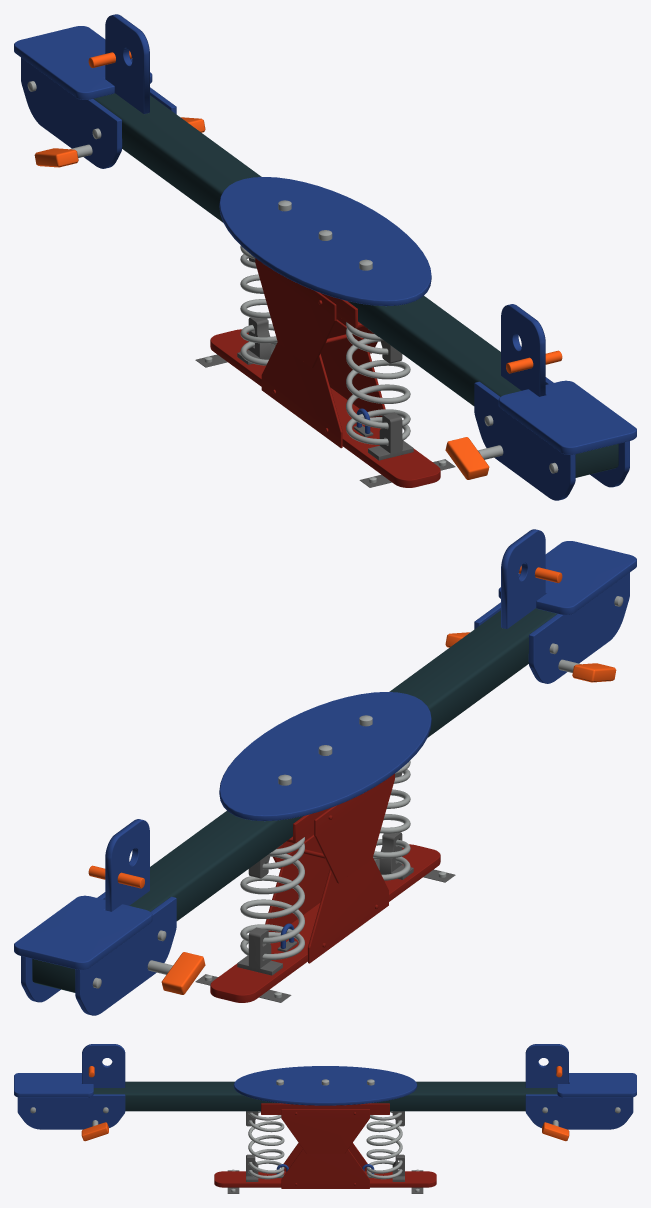
File: Seesaw.fbx
The picture shows the model from 3 angles, top to bottom: view 1: azimuth 30°, elevation 25°; view 2: azimuth 150°, elevation 25°; view 3: azimuth 270°, elevation 25°; orthographic projection. The views are drawn at different scales.
Parts seen in each view (by area): view 1: Seesaw_Beam, Seesaw_Base; view 2: Seesaw_Beam, Seesaw_Base; view 3: Seesaw_Beam, Seesaw_Base.
Part boxes in pixels (left/top/right/bottom): Seesaw_Beam: left=14, top=14, right=636, bottom=500; Seesaw_Base: left=195, top=245, right=455, bottom=487; Seesaw_Beam: left=14, top=529, right=636, bottom=1015; Seesaw_Base: left=195, top=760, right=455, bottom=1002; Seesaw_Beam: left=14, top=1044, right=636, bottom=1141; Seesaw_Base: left=214, top=1109, right=436, bottom=1193.
Bounding box in the file's own units: 0.2645 × 0.4182 × 1.71.
